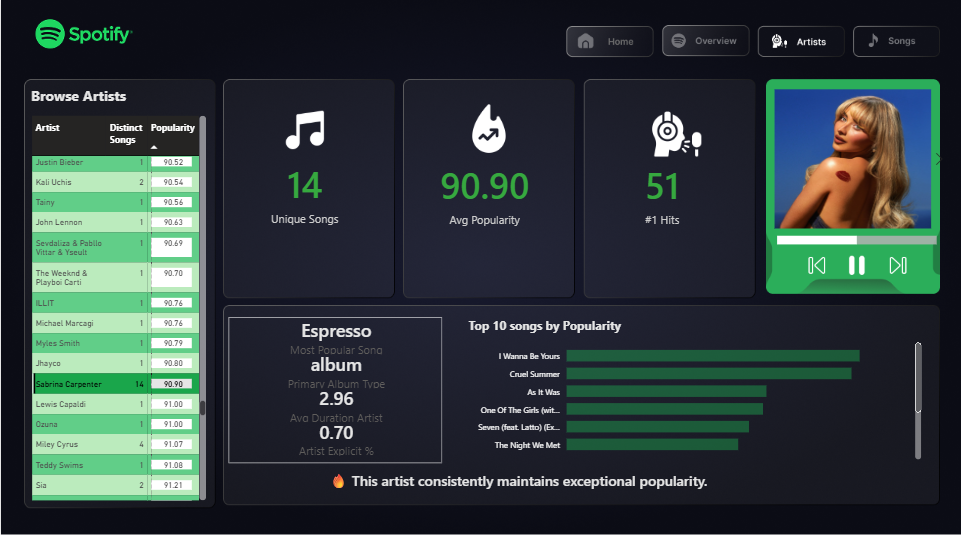

The dashboard page shown, as its layout file describes it:
{"tool":"powerbi","page":{"name":"Artist","canvas":[1280,720],"ordinal":2},"visuals":[{"type":"actionButton","box":[747.5,40,116.7,43.3],"z":0},{"type":"actionButton","box":[881.7,40,116.7,43.3],"z":1000},{"type":"actionButton","box":[1005.8,40,116.7,43.3],"z":2000},{"type":"actionButton","box":[1134.1,40,116.7,43.3],"z":3000},{"type":"tableEx","title":"Browse Artists","fields":{"Values":["Top-50-World.artist","_Measures.Distinct Songs","_Measures.Avg Popularity per Artist"]},"box":[35.6,118.9,243.3,557.8],"z":4000},{"type":"cardVisual","fields":{"Data":["_Measures.Distinct Songs"]},"box":[300.1,122.4,210,278.3],"z":5000},{"type":"image","box":[370,151.4,70,51],"z":6000},{"type":"cardVisual","fields":{"Data":["_Measures.Avg Popularity per Artist"]},"box":[540.1,123.4,210,278.3],"z":7000},{"type":"image","box":[628.6,137.1,65,78],"z":8000},{"type":"cardVisual","fields":{"Data":["_Measures.Position1 Hits per Artist"]},"box":[777.4,123.4,210,278.3],"z":9000},{"type":"image","box":[864.3,150,71.4,65.7],"z":10000},{"type":"advancedSlicerVisual","title":"Song and Artist","fields":{"Values":["Top-50-World.song"]},"box":[1005.7,117.1,261.4,198.6],"z":11000},{"type":"hundredPercentStackedBarChart","fields":{"Y":["_Measures.Avg Popularity","Avg(Top-50-World.popularity)"]},"box":[1030.1,289.7,222.9,61.4],"z":12000},{"type":"image","box":[1074.6,345.3,25.7,25.7],"z":13000},{"type":"image","box":[1183,345.4,25.7,25.7],"z":14000},{"type":"image","box":[1128.7,345.4,25.7,25.7],"z":15000},{"type":"shape","box":[303.8,426.2,285,195],"z":16000},{"type":"cardVisual","fields":{"Data":["_Measures.Most Popular Song","_Measures.Primary Album Type","_Measures.Avg Duration Artist","_Measures.Artist Explicit %"]},"box":[310.9,421.8,271.2,203.8],"z":17000},{"type":"clusteredBarChart","title":"Top 10 songs by Popularity","fields":{"Y":["Sum(Top-50-World.popularity)"],"Category":["Top-50-World.song"]},"box":[617.5,426.2,613.8,195],"z":18000},{"type":"cardVisual","fields":{"Data":["Top-50-World.Artist Insight"]},"box":[408.6,610,784.3,68.6],"z":19000}]}

Visuals, with their boxes in screenshot pixels (x1, y1, x2, y2), scaled from the page's 1280x720 canvas onto the 961x535 screenshot:
actionButton: x1=561, y1=30, x2=649, y2=62
actionButton: x1=662, y1=30, x2=750, y2=62
actionButton: x1=755, y1=30, x2=843, y2=62
actionButton: x1=851, y1=30, x2=939, y2=62
"Browse Artists" tableEx: x1=27, y1=88, x2=209, y2=503
cardVisual - _Measures.Distinct Songs: x1=225, y1=91, x2=383, y2=298
image: x1=278, y1=112, x2=330, y2=150
cardVisual - _Measures.Avg Popularity per Artist: x1=405, y1=92, x2=563, y2=298
image: x1=472, y1=102, x2=521, y2=160
cardVisual - _Measures.Position1 Hits per Artist: x1=584, y1=92, x2=741, y2=298
image: x1=649, y1=111, x2=703, y2=160
"Song and Artist" advancedSlicerVisual: x1=755, y1=87, x2=951, y2=235
hundredPercentStackedBarChart - _Measures.Avg Popularity x Avg(Top-50-World.popularity): x1=773, y1=215, x2=941, y2=261
image: x1=807, y1=257, x2=826, y2=276
image: x1=888, y1=257, x2=907, y2=276
image: x1=847, y1=257, x2=867, y2=276
shape: x1=228, y1=317, x2=442, y2=462
cardVisual - _Measures.Most Popular Song x _Measures.Primary Album Type: x1=233, y1=313, x2=437, y2=465
"Top 10 songs by Popularity" clusteredBarChart: x1=464, y1=317, x2=924, y2=462
cardVisual - Top-50-World.Artist Insight: x1=307, y1=453, x2=896, y2=504
